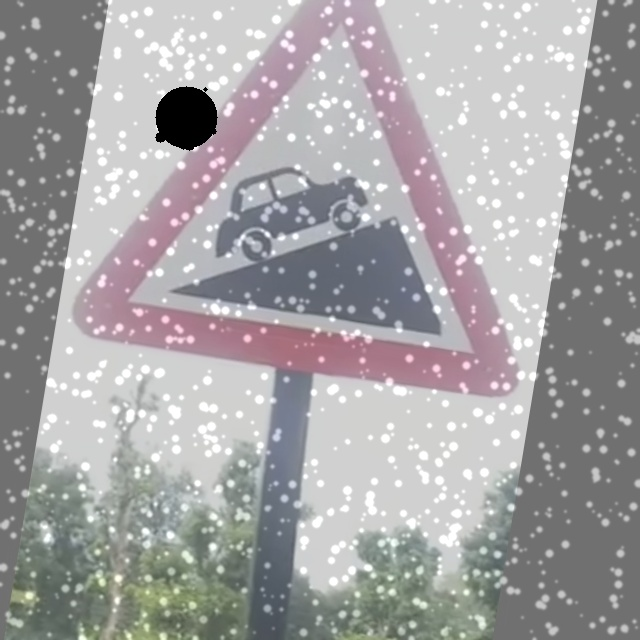Steep_Ascent: (111, 17, 525, 385)
